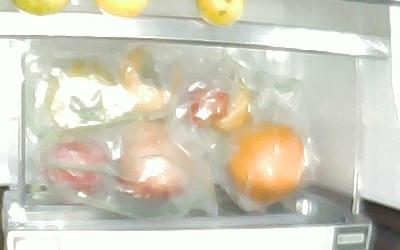apple_vinyl: (119, 121, 195, 200), (42, 131, 109, 191)
grapefruit_vinyl: (224, 121, 304, 200)
persimmon_vinyl: (46, 57, 117, 127), (119, 42, 182, 110)
prune_vinyl: (216, 84, 253, 133), (189, 86, 230, 127)
